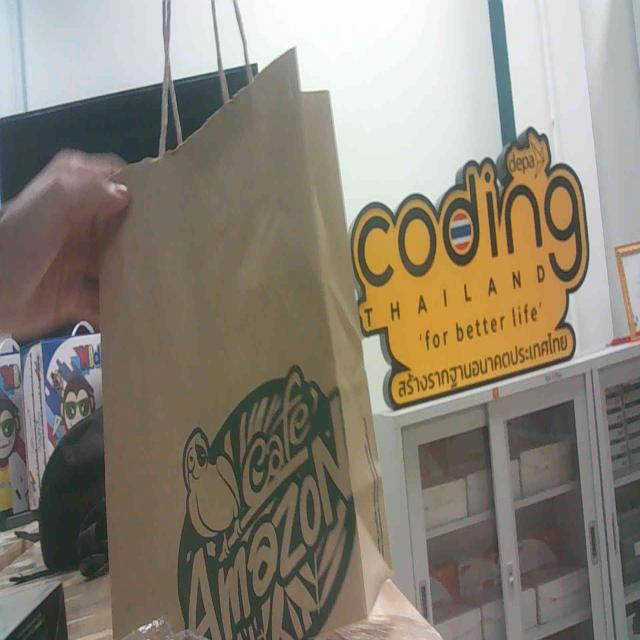bag: (98, 107, 376, 640)
